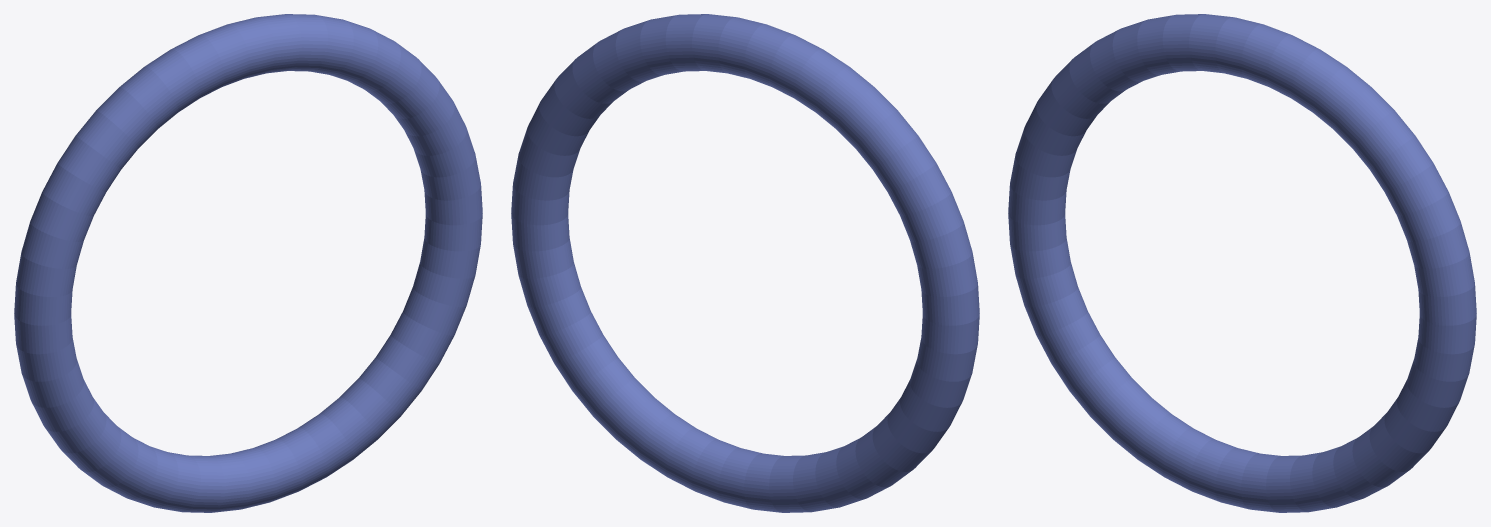
The picture shows the model from 3 angles, left to right: view 1: azimuth 30°, elevation 25°; view 2: azimuth 150°, elevation 25°; view 3: azimuth 330°, elevation 25°; orthographic projection.
Parts seen in each view (by area): view 1: world; view 2: world; view 3: world.
Boxes of the visible parts, x1,y1,x2,y2 form: world: (14, 14, 482, 512); world: (511, 14, 979, 512); world: (1008, 14, 1476, 512).
Bounding box in the file's own units: 18.67 × 18.63 × 2.
